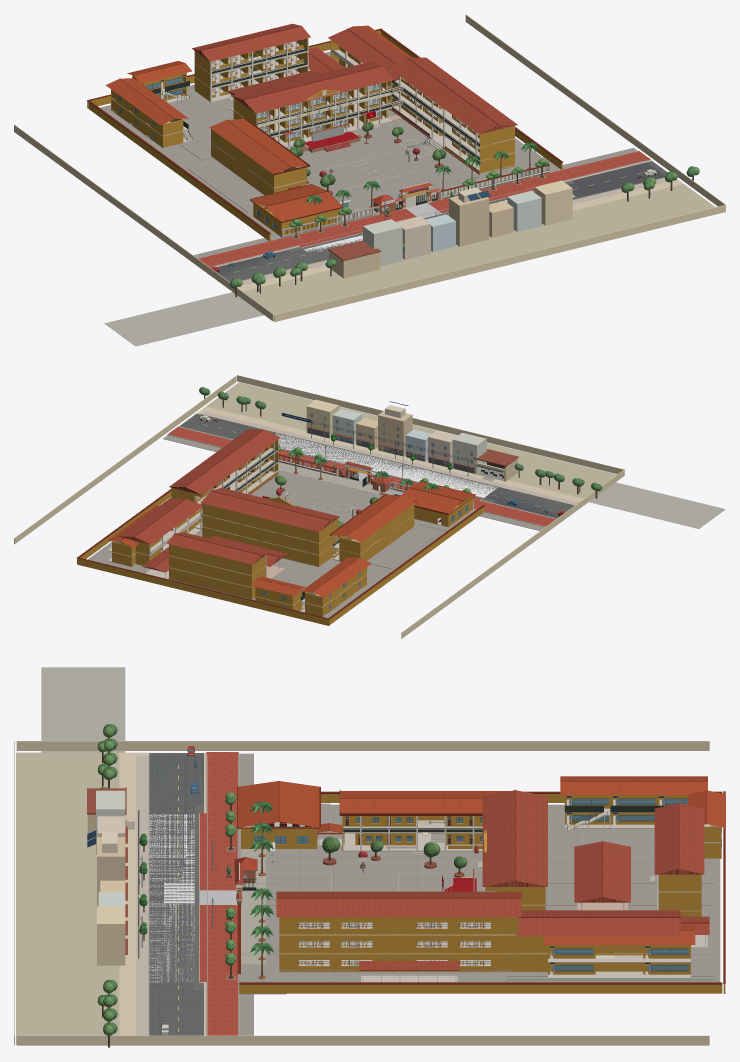
File: KienAn_V72.glb
3 views of the same model, one above another, from view 1: azimuth 30°, elevation 25°; view 2: azimuth 150°, elevation 25°; view 3: azimuth 270°, elevation 25° (orthographic). The views are drawn at different scales.
Parts seen in each view (by area): view 1: V29_OPPOSITE_OUTER_GROUND, GROUND_COURTYARD, ROAD_back_lot, RIGHT_ROOF, WORLD_EDGE_OPPOSITE, CENTER_ROOF, V48_LEFT_TEACHERS_RED_TILE_ROOF, REAR_COURTYARD_GROUND, WORLD_EDGE_LEFT, WORLD_EDGE_RIGHT, REAR_ROOF, V29_STREET_WALKABLE (+33 smaller); view 2: V29_OPPOSITE_OUTER_GROUND, GROUND_COURTYARD, V29_STREET_WALKABLE, ROAD_back_lot, RIGHT_ROOF, ROAD_road, CENTER_ROOF, WORLD_EDGE_OPPOSITE, V29_OPPOSITE_SIDEWALK_WALKABLE, RIGHT_REAR_2F_ROOF, CAMPUS_PERIMETER_REAR, V48_LEFT_TEACHERS_RED_TILE_ROOF (+37 smaller); view 3: V29_OPPOSITE_OUTER_GROUND, V29_STREET_WALKABLE, GROUND_COURTYARD, REAR_COURTYARD_GROUND, WORLD_EDGE_RIGHT, WORLD_EDGE_LEFT, RIGHT_ROOF, ROAD_back_lot, CENTER_ROOF, CAMPUS_PERIMETER_RIGHT, RIGHT_REAR_2F_ROOF, V29_OPPOSITE_SIDEWALK_WALKABLE (+40 smaller).
Part boxes in pixels (x1,y1,x2,y2): V29_OPPOSITE_OUTER_GROUND: (243, 184, 714, 319); GROUND_COURTYARD: (187, 118, 507, 212); ROAD_back_lot: (104, 292, 263, 346); RIGHT_ROOF: (387, 57, 517, 134); WORLD_EDGE_OPPOSITE: (274, 204, 725, 321); CENTER_ROOF: (231, 62, 393, 113); V48_LEFT_TEACHERS_RED_TILE_ROOF: (209, 118, 307, 173); REAR_COURTYARD_GROUND: (169, 52, 394, 160); WORLD_EDGE_LEFT: (14, 124, 273, 321); WORLD_EDGE_RIGHT: (465, 14, 725, 206); REAR_ROOF: (192, 23, 310, 61); V29_STREET_WALKABLE: (218, 161, 667, 281); V29_OPPOSITE_OUTER_GROUND: (206, 382, 616, 498); GROUND_COURTYARD: (250, 470, 443, 568); V29_STREET_WALKABLE: (179, 414, 573, 517); ROAD_back_lot: (589, 482, 725, 528); RIGHT_ROOF: (169, 429, 280, 494); ROAD_road: (275, 433, 497, 497); CENTER_ROOF: (200, 487, 339, 531); WORLD_EDGE_OPPOSITE: (237, 375, 624, 475); V29_OPPOSITE_SIDEWALK_WALKABLE: (196, 406, 583, 505); RIGHT_REAR_2F_ROOF: (118, 497, 202, 544); CAMPUS_PERIMETER_REAR: (77, 558, 329, 625); V48_LEFT_TEACHERS_RED_TILE_ROOF: (331, 494, 415, 542); V29_OPPOSITE_OUTER_GROUND: (16, 752, 119, 1044); V29_STREET_WALKABLE: (149, 753, 203, 1035); GROUND_COURTYARD: (266, 811, 493, 982); REAR_COURTYARD_GROUND: (506, 823, 715, 980); WORLD_EDGE_RIGHT: (16, 1035, 709, 1045); WORLD_EDGE_LEFT: (16, 741, 709, 750); RIGHT_ROOF: (276, 891, 521, 917); ROAD_back_lot: (41, 667, 125, 752); CENTER_ROOF: (482, 790, 547, 886); CAMPUS_PERIMETER_RIGHT: (239, 984, 722, 993); RIGHT_REAR_2F_ROOF: (516, 910, 680, 935); V29_OPPOSITE_SIDEWALK_WALKABLE: (119, 752, 149, 1035).
Size of the model in its own units: 216 by 17.83 by 169.
Materials: 71 (65 with a texture image).
